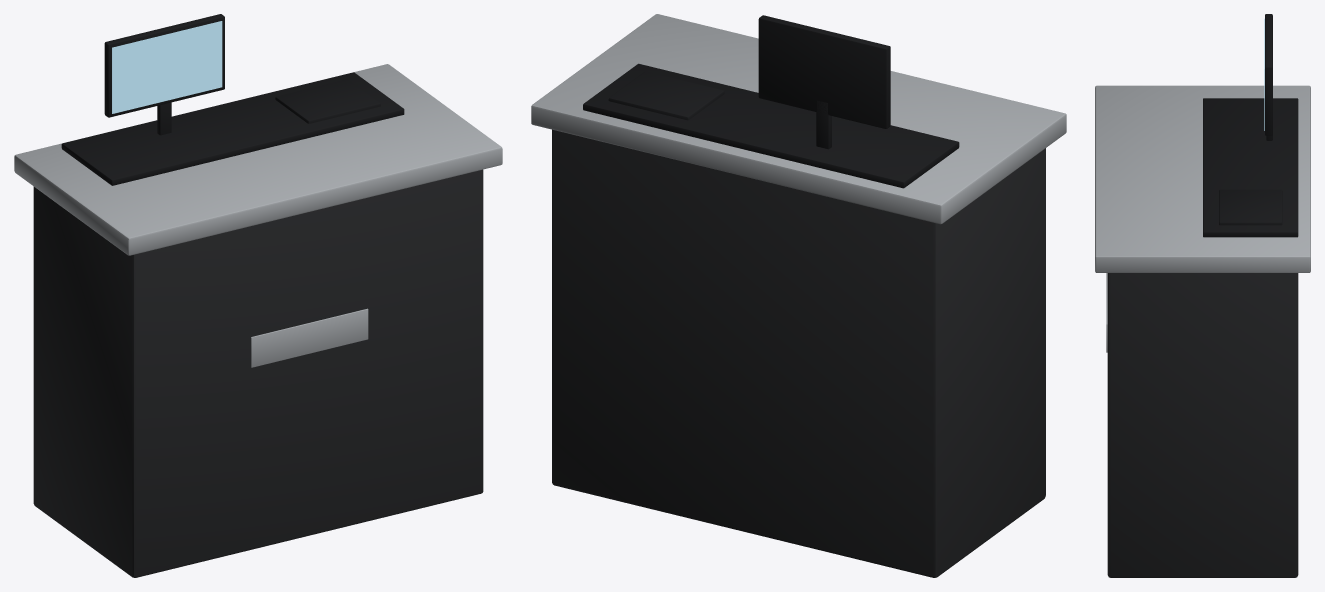
File: vantage_gate_desk.glb
The picture shows the model from 3 angles, left to right: view 1: azimuth 30°, elevation 25°; view 2: azimuth 150°, elevation 25°; view 3: azimuth 270°, elevation 25°; orthographic projection. The views are drawn at different scales.
Parts seen in each view (by area): view 1: vantage_gate_desk; view 2: vantage_gate_desk; view 3: vantage_gate_desk.
Part boxes in pixels (x1,y1,x2,y2): vantage_gate_desk: [14, 14, 502, 577]; vantage_gate_desk: [531, 14, 1066, 577]; vantage_gate_desk: [1095, 14, 1310, 577].
Size of the model in its own units: 1.28 by 1.5 by 0.68.
